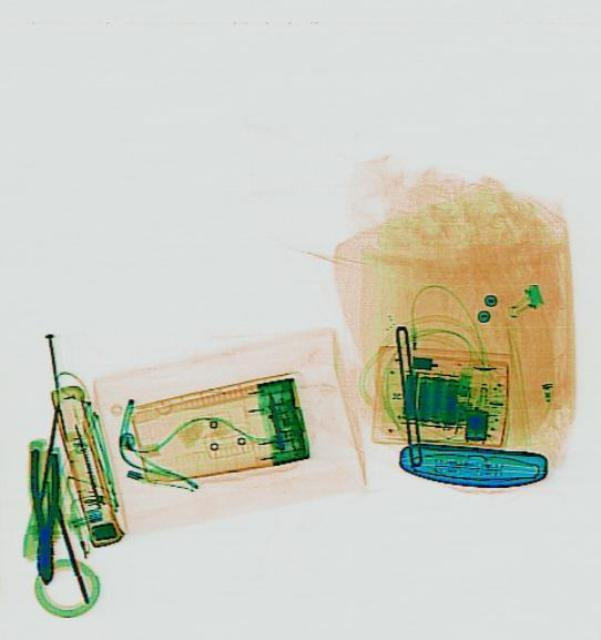Pliers: (26, 448, 59, 582)
